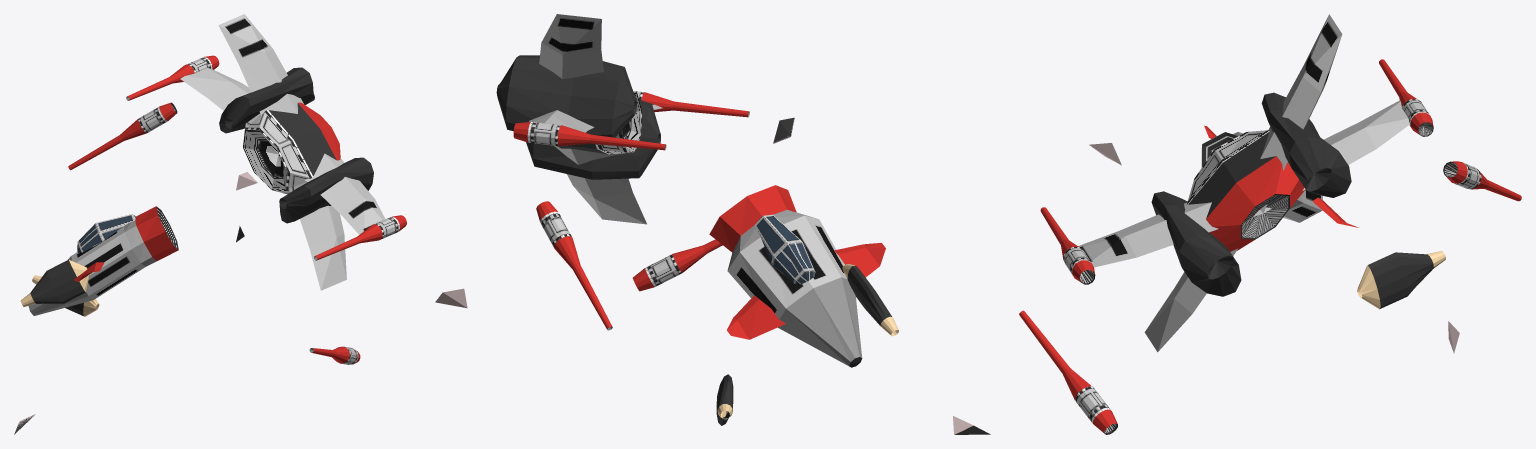
File: X-Warrior.obj
3 views of the same model, side by side, from view 1: azimuth 30°, elevation 25°; view 2: azimuth 150°, elevation 25°; view 3: azimuth 270°, elevation 25° (orthographic). The views are drawn at different scales.
Parts seen in each view (by area): view 1: X-Warrior, X-Warrior.001; view 2: X-Warrior, X-Warrior.001, X-Warrior.003; view 3: X-Warrior, X-Warrior.003, X-Warrior.004, X-Warrior.001.
Boxes of the visible parts, x1,y1,x2,y2 form: X-Warrior: [18, 14, 406, 426]; X-Warrior.001: [22, 210, 176, 315]; X-Warrior: [435, 14, 973, 434]; X-Warrior.001: [709, 217, 894, 367]; X-Warrior.003: [632, 239, 718, 290]; X-Warrior: [1019, 14, 1521, 434]; X-Warrior.003: [1019, 311, 1117, 434]; X-Warrior.004: [1357, 252, 1445, 306]; X-Warrior.001: [1201, 132, 1322, 209].
Size of the model in its own units: 3.38 by 2.74 by 3.05.
